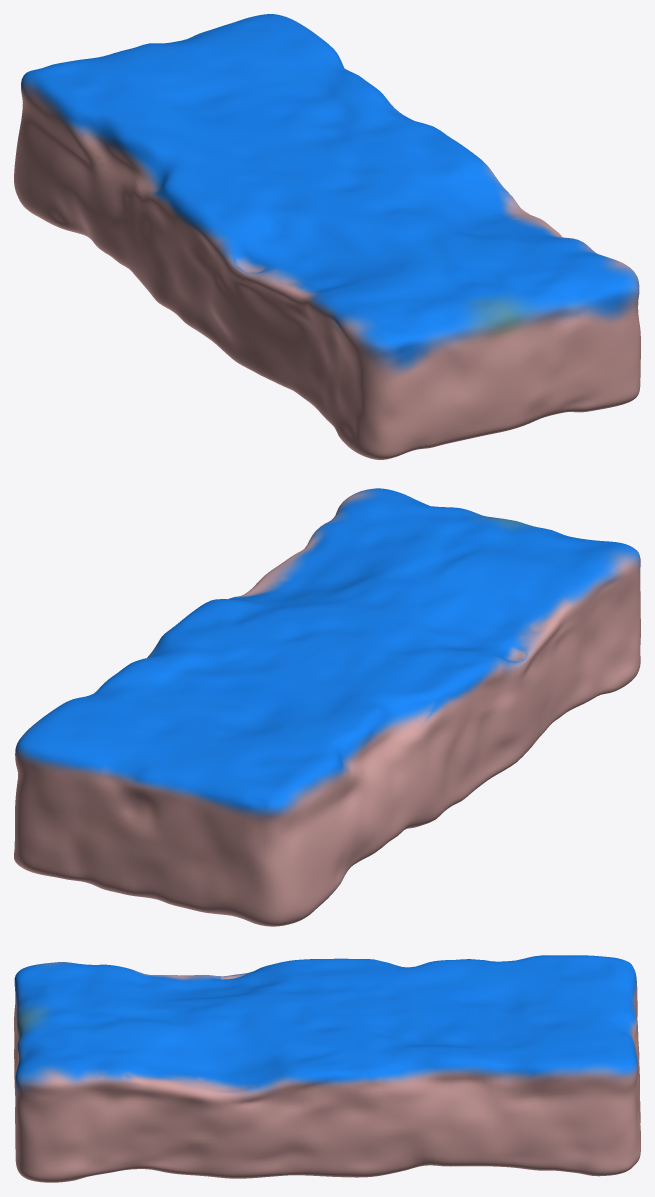
Rendered from slab.5.4.glb.
3 renders of one model, top to bottom at view 1: azimuth 30°, elevation 25°; view 2: azimuth 150°, elevation 25°; view 3: azimuth 270°, elevation 25°, orthographic. The views are drawn at different scales.
Visible parts, largest first — view 1: Group33550; view 2: Group33550; view 3: Group33550.
Boxes of the visible parts, x1,y1,x2,y2 form: Group33550: (14, 14, 640, 459); Group33550: (14, 488, 640, 926); Group33550: (14, 955, 640, 1182).
Bounding box in the file's own units: 4.74 × 2.23 × 10.41.
Materials: 1 (1 with a texture image).
